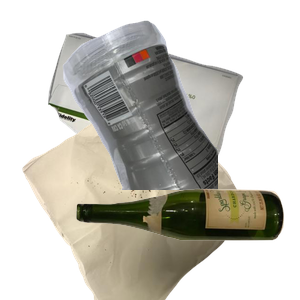glass: (74, 186, 300, 300)
paper: (45, 30, 281, 195)
plastic: (60, 18, 300, 198)
trash: (20, 120, 260, 300)
